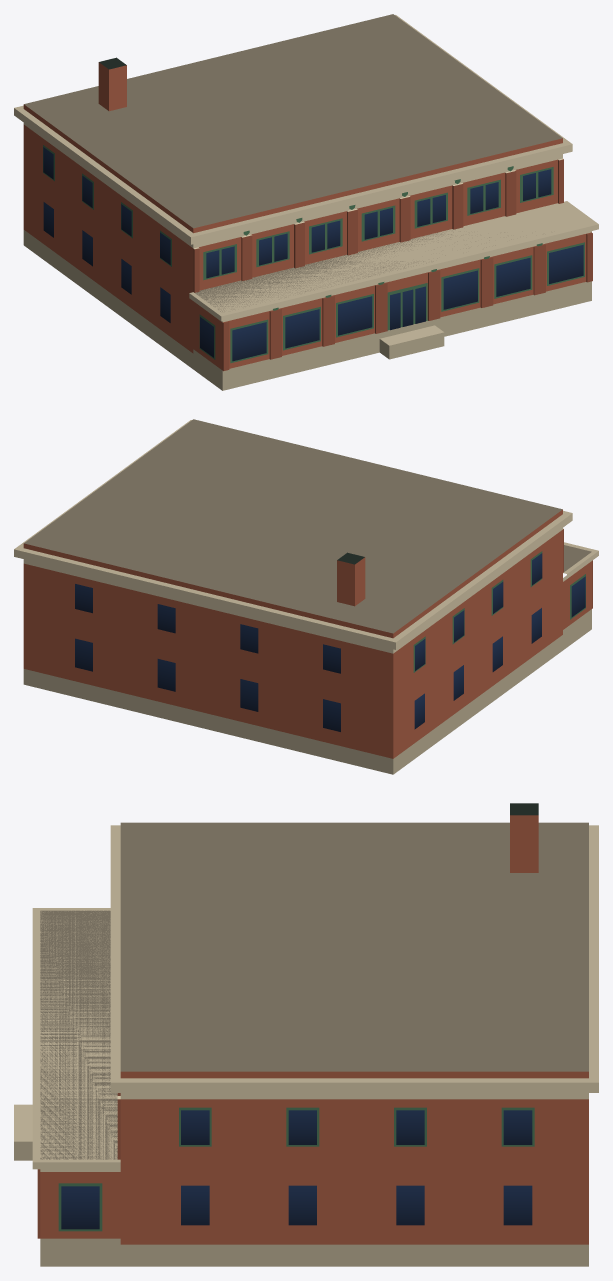
The model's file is superior.glb.
3 views of the same model, one above another, from view 1: azimuth 30°, elevation 25°; view 2: azimuth 150°, elevation 25°; view 3: azimuth 270°, elevation 25° (orthographic). The views are drawn at different scales.
Visible parts, largest first — view 1: Superior; view 2: Superior; view 3: Superior.
Part boxes in pixels (left/top/right/bottom): Superior: left=14, top=14, right=598, bottom=390; Superior: left=14, top=419, right=598, bottom=774; Superior: left=14, top=803, right=598, bottom=1266.
Size of the model in its own units: 27.72 by 12.69 by 26.64.
